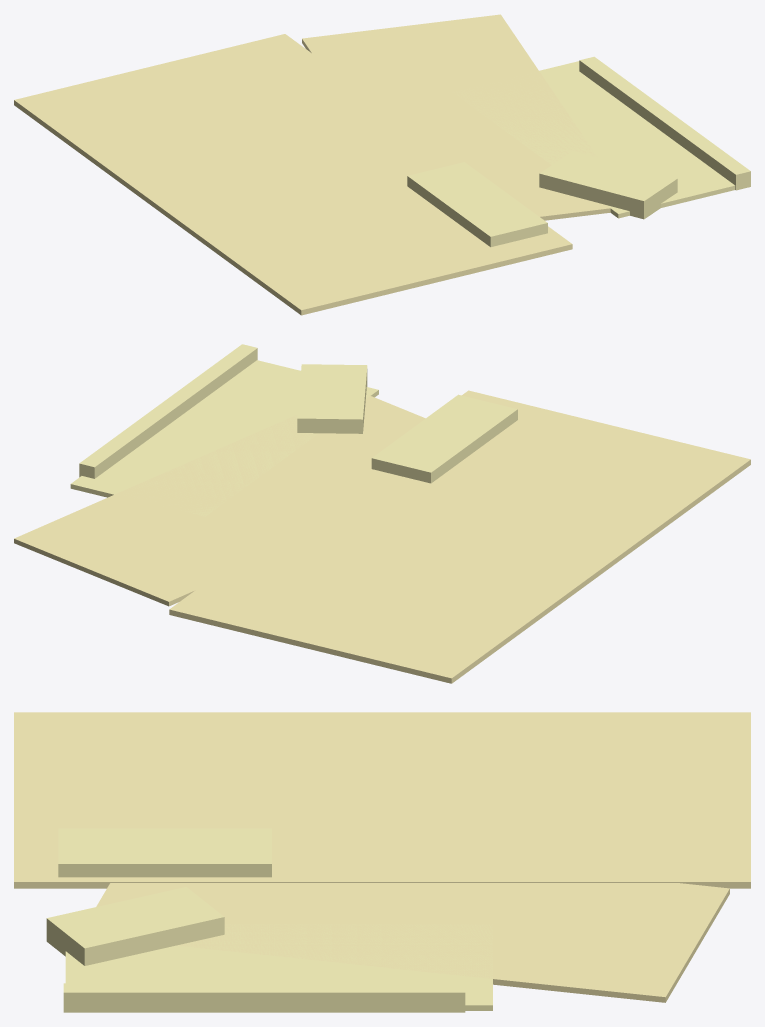
The model's file is road_roundabout_truck_apron.glb.
The picture shows the model from 3 angles, top to bottom: view 1: azimuth 30°, elevation 25°; view 2: azimuth 150°, elevation 25°; view 3: azimuth 270°, elevation 25°; orthographic projection. The views are drawn at different scales.
Visible parts, largest first — view 1: lane_outer, circulatory_lane, truck_apron, splitter_island_stub, apron_nose, apron_curb_outer; view 2: lane_outer, circulatory_lane, truck_apron, splitter_island_stub, apron_curb_outer, apron_nose; view 3: lane_outer, circulatory_lane, truck_apron, apron_curb_outer, splitter_island_stub, apron_nose.
Boxes of the visible parts, box(x1,y1,x2,y2) form: lane_outer: box(14, 34, 572, 315); circulatory_lane: box(302, 14, 610, 220); truck_apron: box(452, 61, 735, 218); splitter_island_stub: box(407, 162, 547, 247); apron_nose: box(539, 151, 677, 219); apron_curb_outer: box(579, 56, 750, 190); lane_outer: box(169, 390, 750, 683); circulatory_lane: box(14, 395, 425, 606); truck_apron: box(70, 360, 378, 516); splitter_island_stub: box(371, 394, 517, 483); apron_curb_outer: box(79, 344, 257, 478); apron_nose: box(297, 364, 367, 433); lane_outer: box(14, 712, 750, 888); circulatory_lane: box(96, 883, 729, 1002); truck_apron: box(65, 924, 492, 1010); apron_curb_outer: box(63, 983, 465, 1012); splitter_island_stub: box(58, 828, 271, 877); apron_nose: box(46, 887, 224, 965).
Bounding box in the file's own units: 3.77 × 0.14 × 4.
